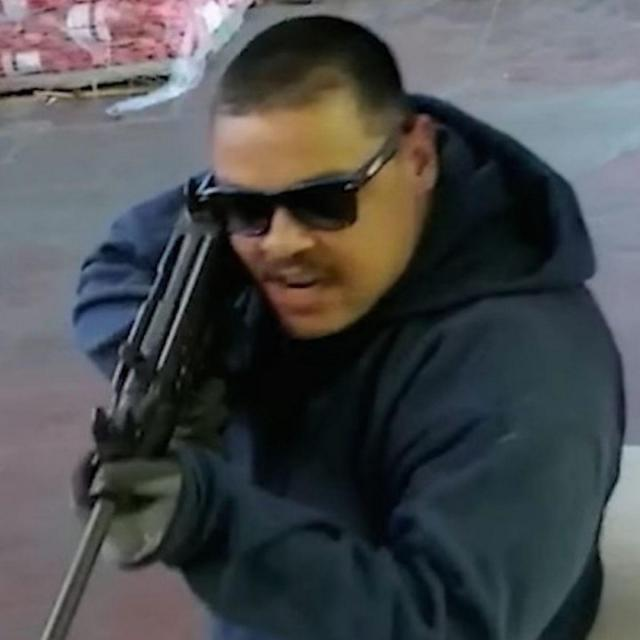gun: (43, 172, 247, 637)
